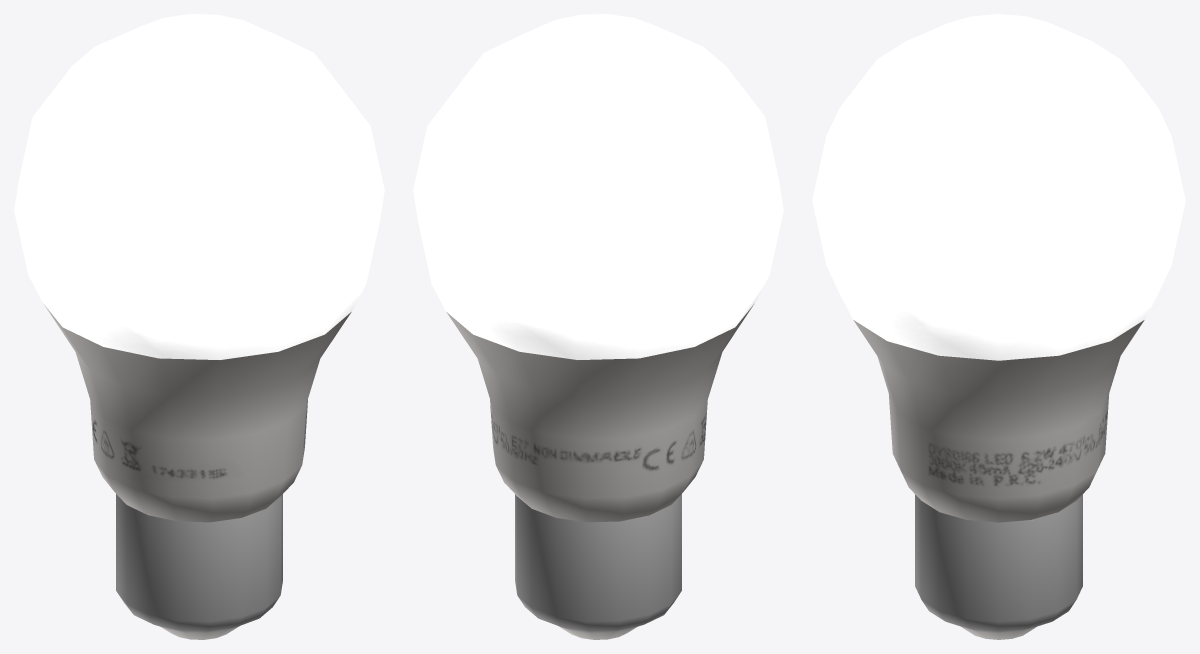
File: led_lightbulb.glb
3 views of the same model, side by side, from view 1: azimuth 30°, elevation 25°; view 2: azimuth 150°, elevation 25°; view 3: azimuth 270°, elevation 25° (orthographic).
Parts seen in each view (by area): view 1: Lightbulb; view 2: Lightbulb; view 3: Lightbulb.
Boxes of the visible parts, x1,y1,x2,y2 form: Lightbulb: (14, 14, 384, 639); Lightbulb: (413, 14, 783, 639); Lightbulb: (812, 14, 1185, 639).
Bounding box in the file's own units: 0.0589 × 0.1045 × 0.0589.
Materials: 1 (1 with a texture image).
